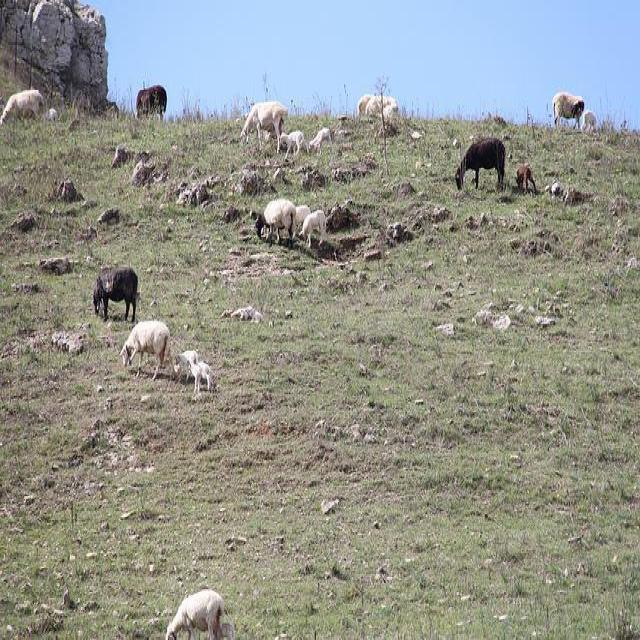Sheep: (0, 88, 333, 386), (160, 583, 233, 639), (119, 322, 175, 382), (91, 270, 146, 325), (456, 141, 506, 192), (256, 200, 296, 250)
